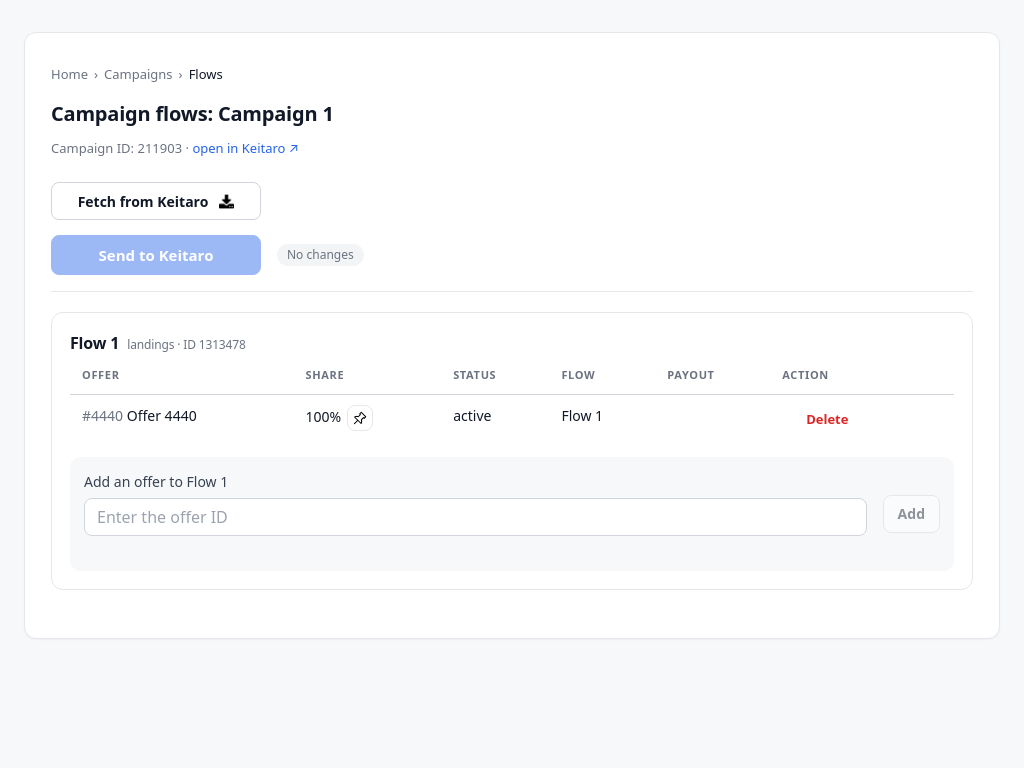
StreamsContent — weight pins › 409 from PUT pending on add: the backend text next to the offer picker, no banner at the top
The image size is (1024, 768).
Expected: the text "#4440" is shown, top-left (82, 406), bottom-right (123, 424)
Type "4516" into the search field labelled "Add an offer to Flow 1" at (475, 516), box top-left (84, 498), bottom-right (867, 536)
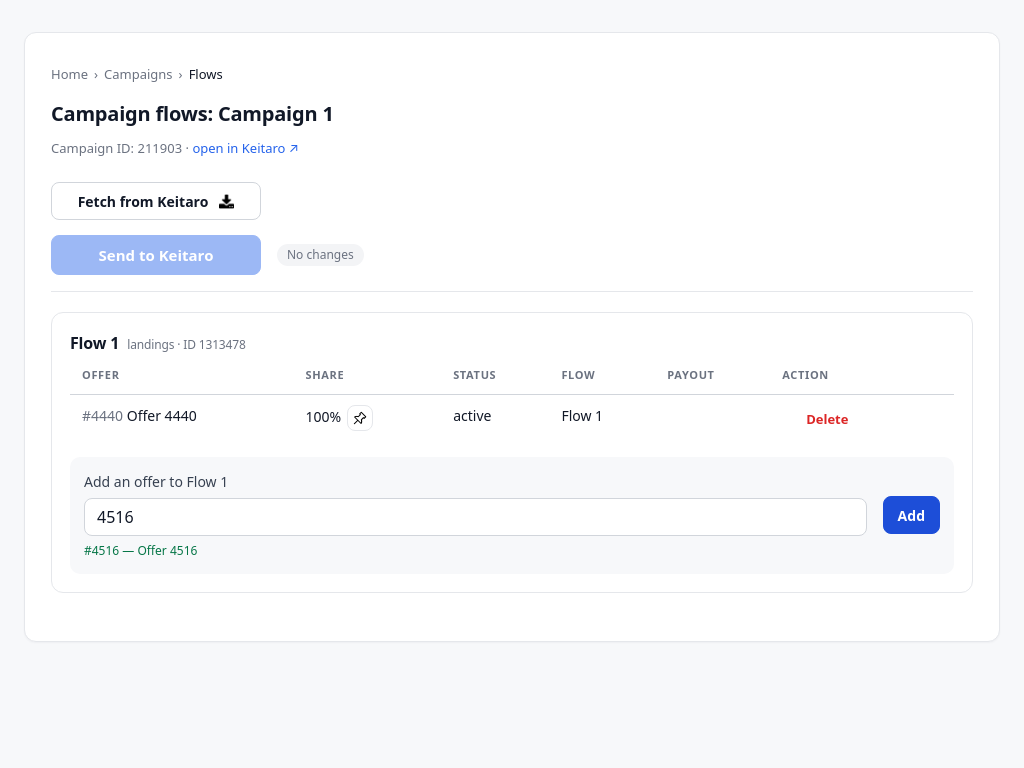
Result: the text "#4516 — Offer 4516" is shown at top-left (84, 542), bottom-right (197, 558)
Click the button "Add" at (911, 515), box top-left (883, 496), bottom-right (940, 534)
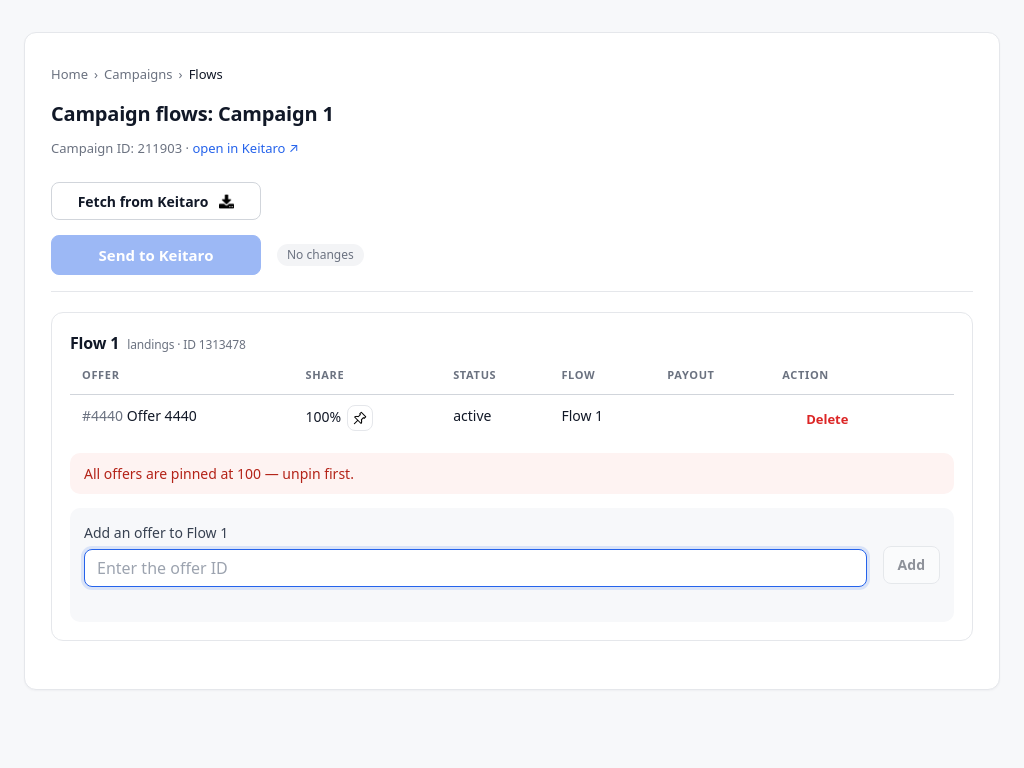
Result: the text "All offers are pinned at 100 — unpin first." is shown once at top-left (70, 452), bottom-right (954, 494)
